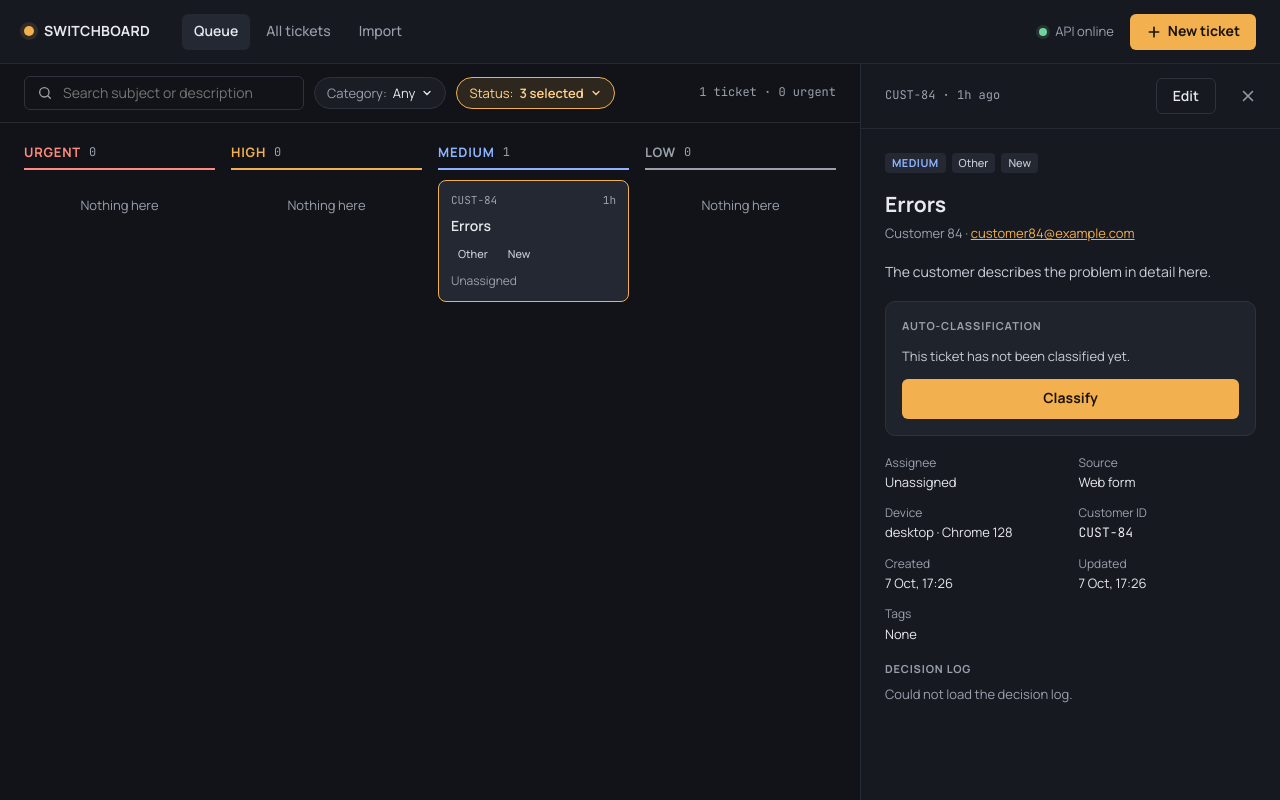
Test: Ticket panel › shows a classification error and a failed decision log
Expected: the text "Could not load the decision log." is shown, [885,685,1072,703]
Click the button "Classify": click(1070, 398) [902,378,1239,418]
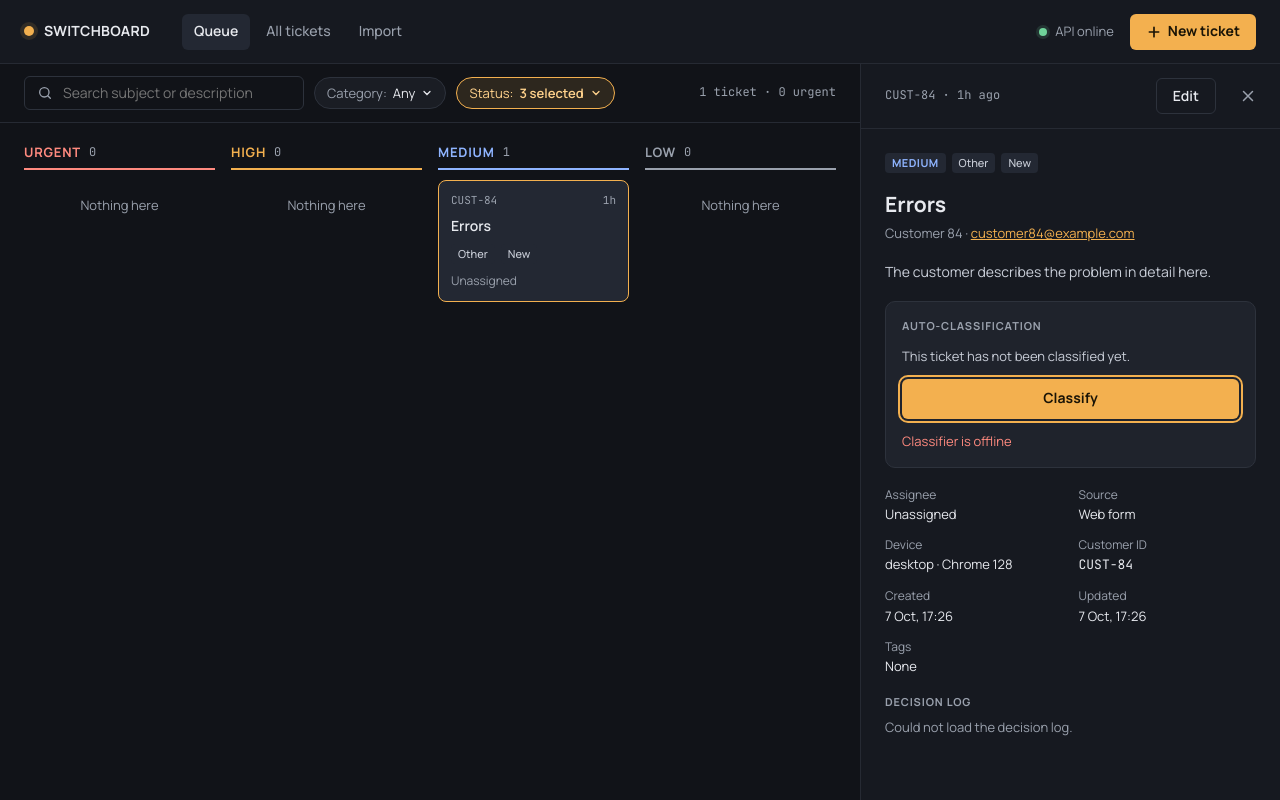
Now the text "Classifier is offline" is shown, box [902,432,1012,450]
